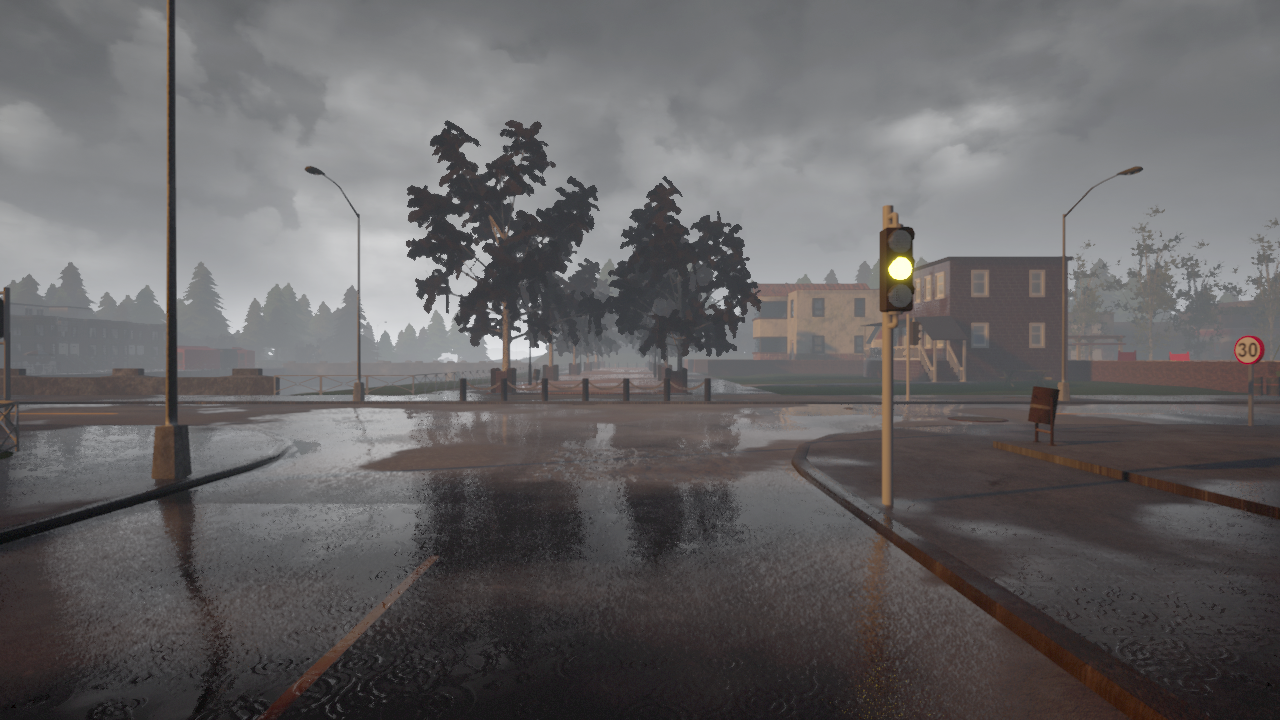yellow: (876, 224, 916, 312)
